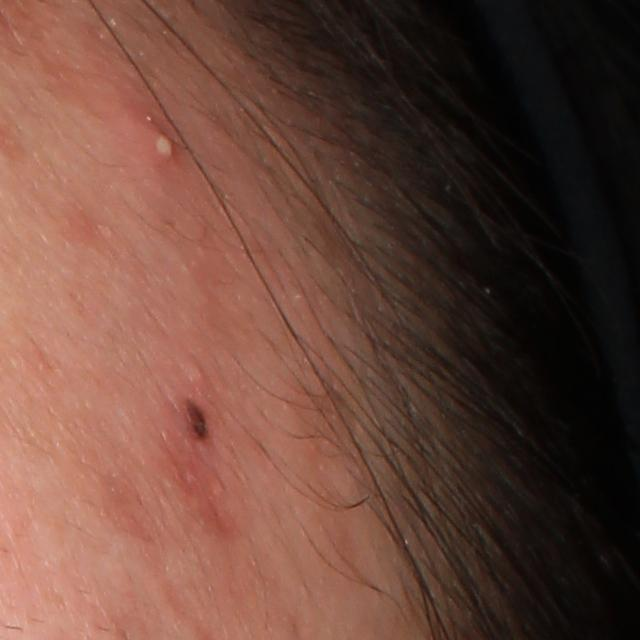nevus: (178, 391, 217, 447)
pustule: (111, 106, 192, 173)
